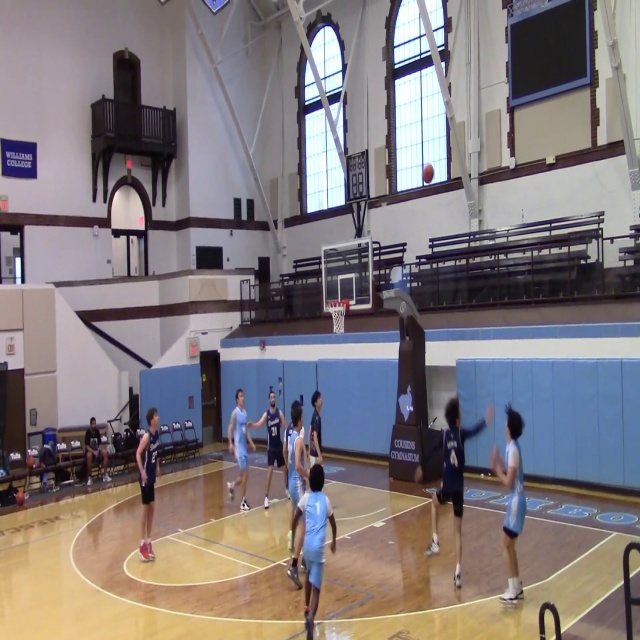Basketball: (422, 163, 434, 183), (15, 491, 25, 506), (26, 455, 35, 468)
